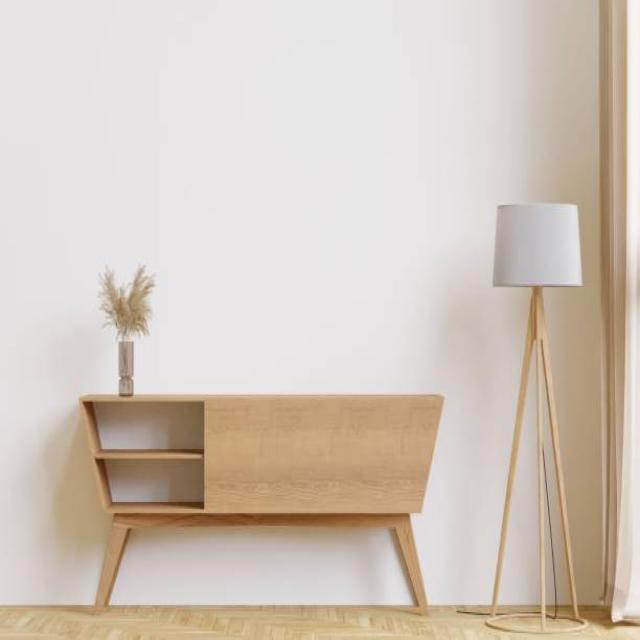table: (78, 390, 444, 615)
